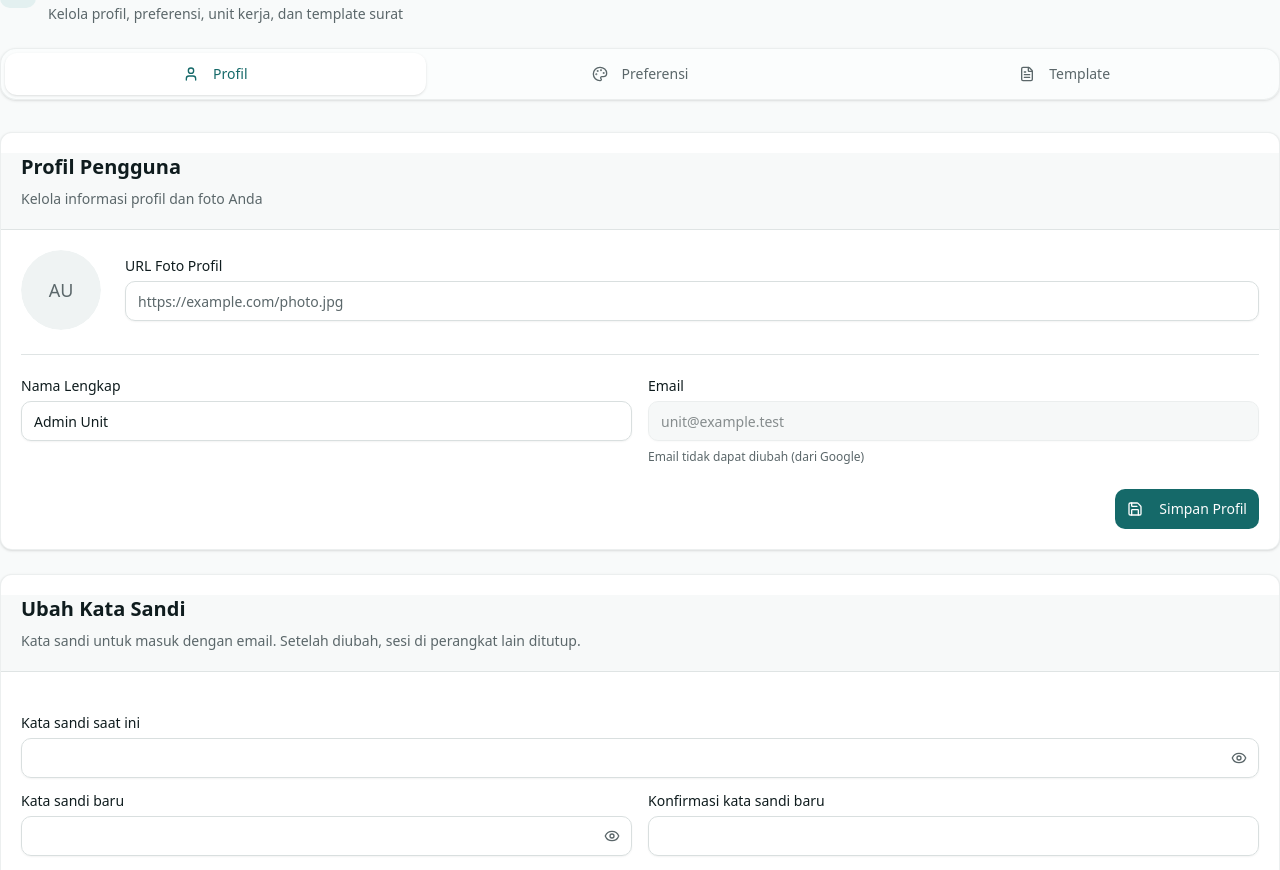
Test: Pengaturan — Ubah Kata Sandi › memeriksa isian sebelum mengirim ({"baru":"pendek7"})
This screenshot has width=1280, height=870.
Type "sintetis-lama-01" into the password field labelled "Kata sandi saat ini" at (640, 758), box top-left (21, 738), bottom-right (1259, 778)
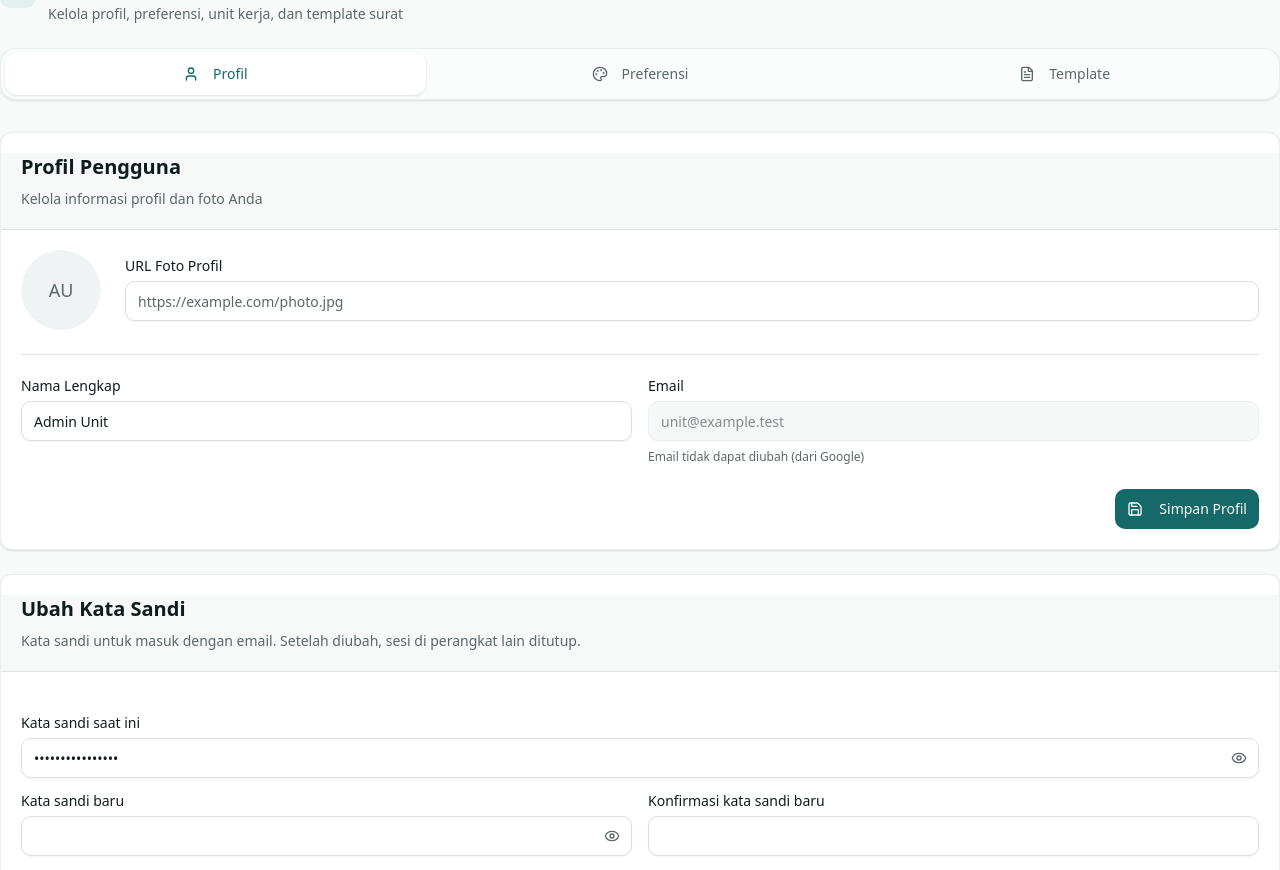
Type "pendek7" into the password field labelled "Kata sandi baru" at (326, 836), box top-left (21, 816), bottom-right (632, 856)
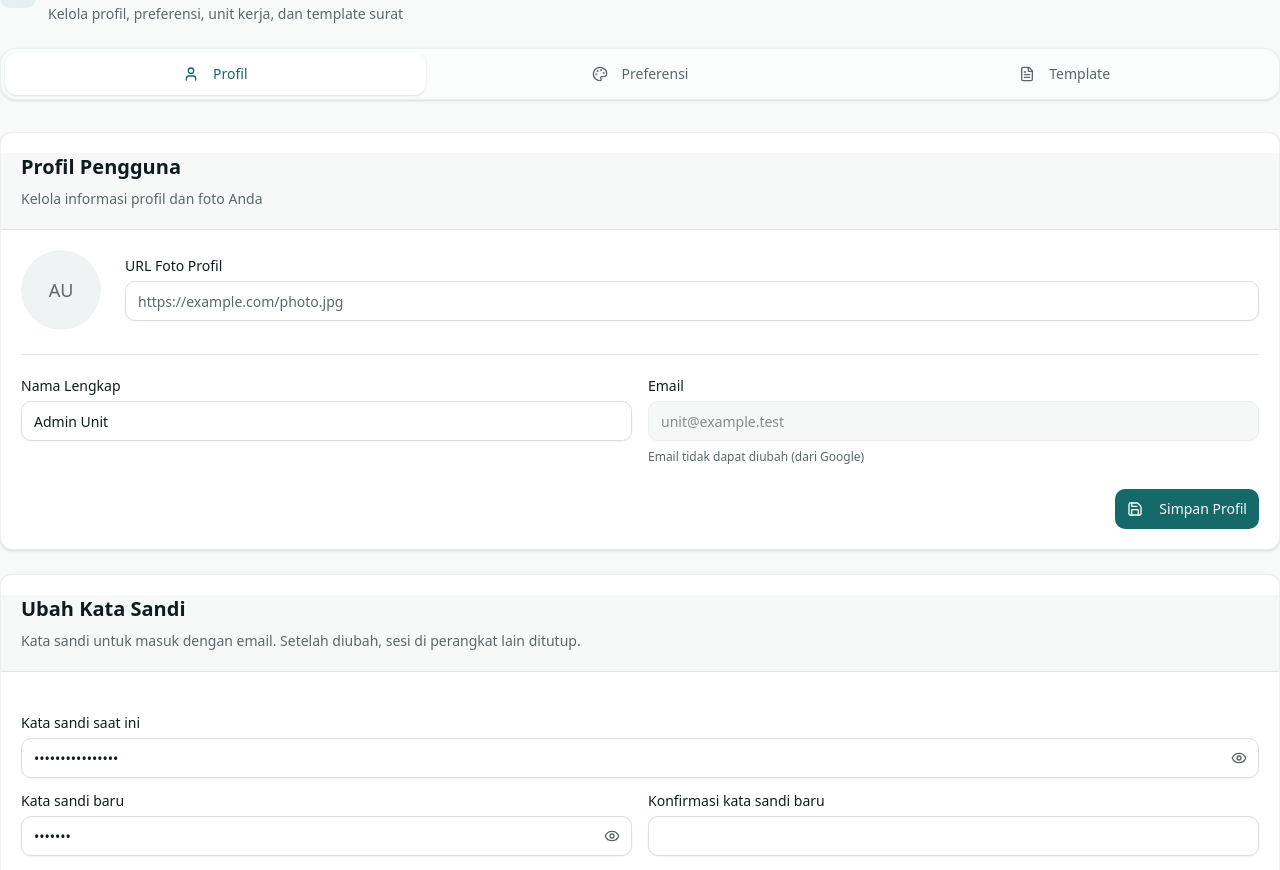
Type "pendek7" into the password field labelled "Konfirmasi kata sandi baru" at (954, 836), box top-left (648, 816), bottom-right (1259, 856)
(page scrolled)
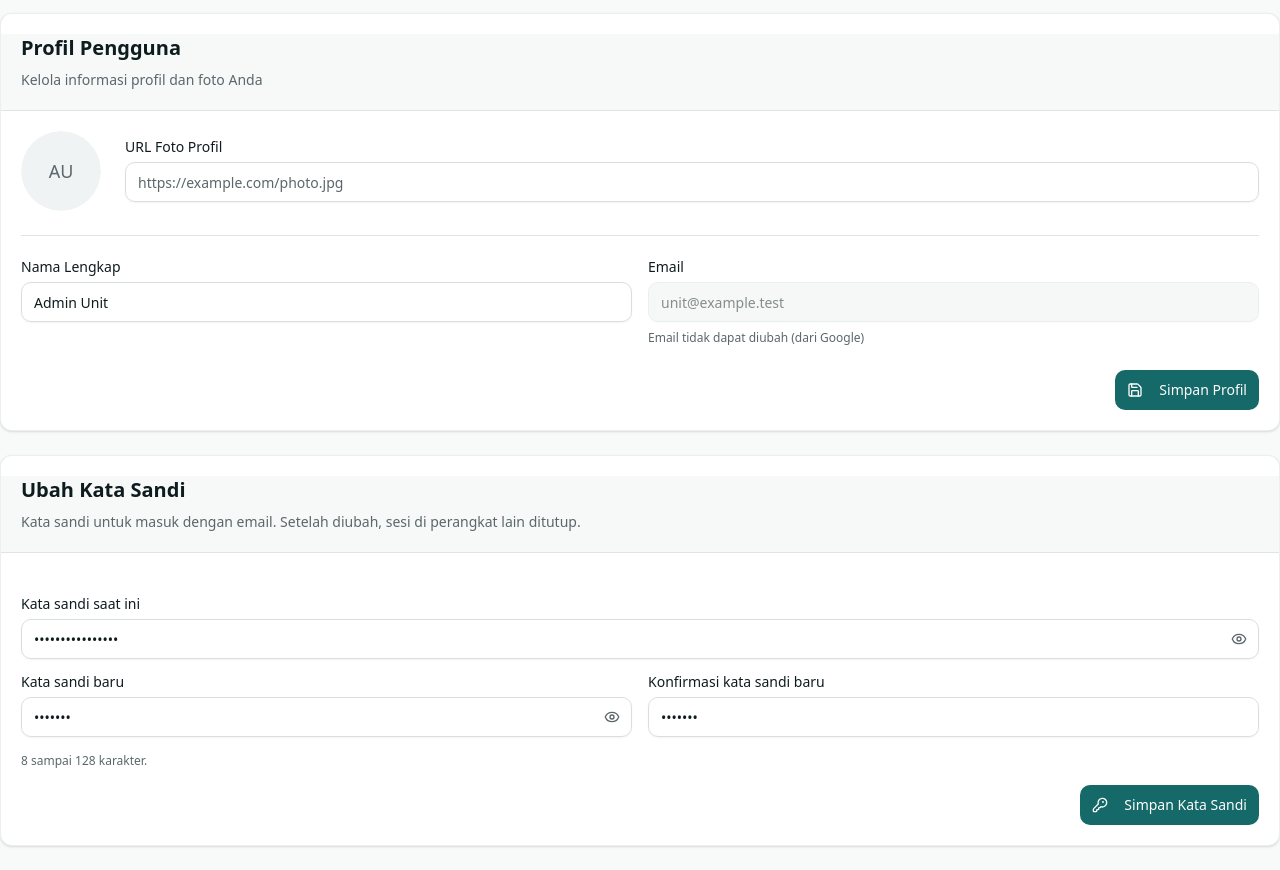
Click the button "Simpan Kata Sandi" at (1170, 805), box top-left (1080, 785), bottom-right (1259, 825)
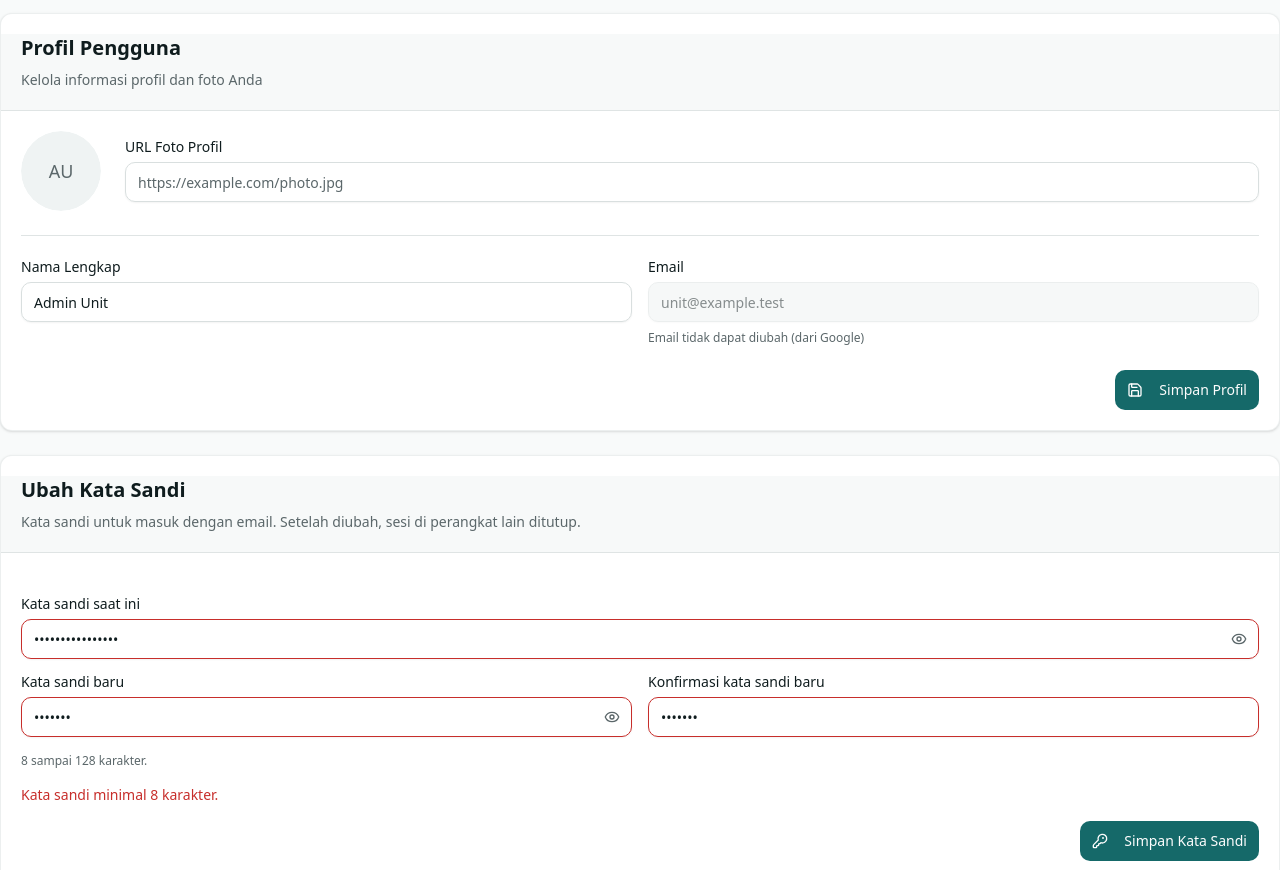
Now the message reads "Kata sandi minimal 8 karakter.", box top-left (21, 785), bottom-right (218, 804)
